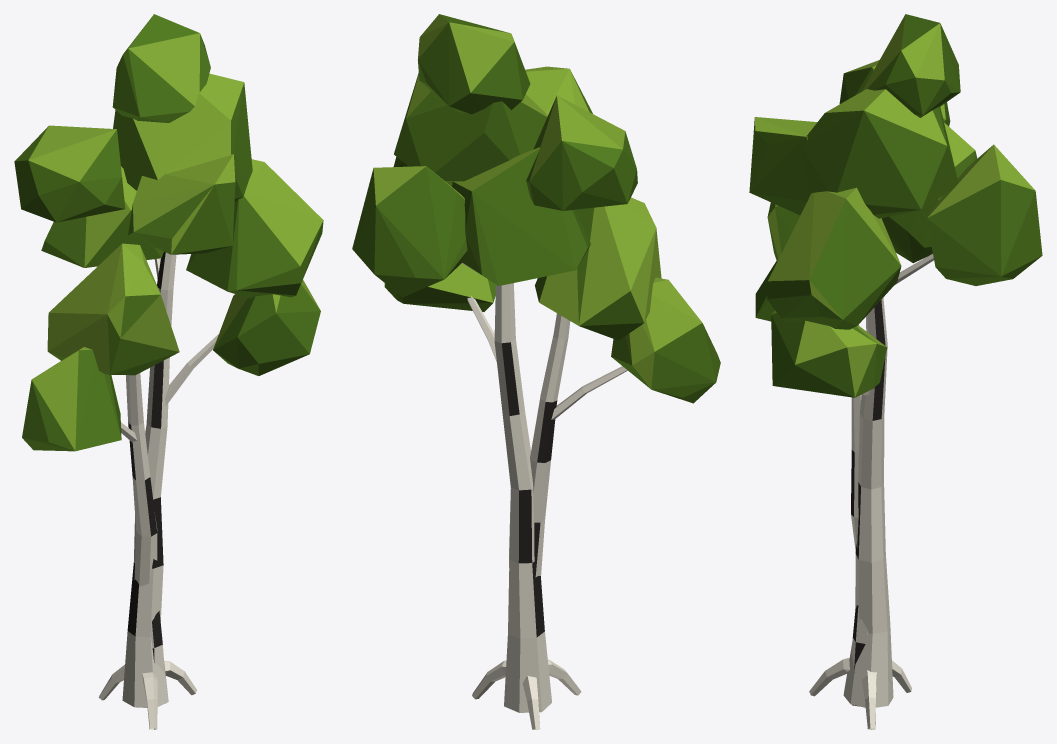
Rendered from tree_birch.glb.
3 renders of one model, left to right at view 1: azimuth 30°, elevation 25°; view 2: azimuth 150°, elevation 25°; view 3: azimuth 270°, elevation 25°, orthographic. The views are drawn at different scales.
Visible parts, largest first — view 1: TreeBirch; view 2: TreeBirch; view 3: TreeBirch.
Boxes of the visible parts, x1=… form: TreeBirch: x1=14, y1=14, x2=323, y2=729; TreeBirch: x1=352, y1=14, x2=720, y2=729; TreeBirch: x1=749, y1=14, x2=1042, y2=729.
Size of the model in its own units: 2.92 by 6.14 by 2.32.
